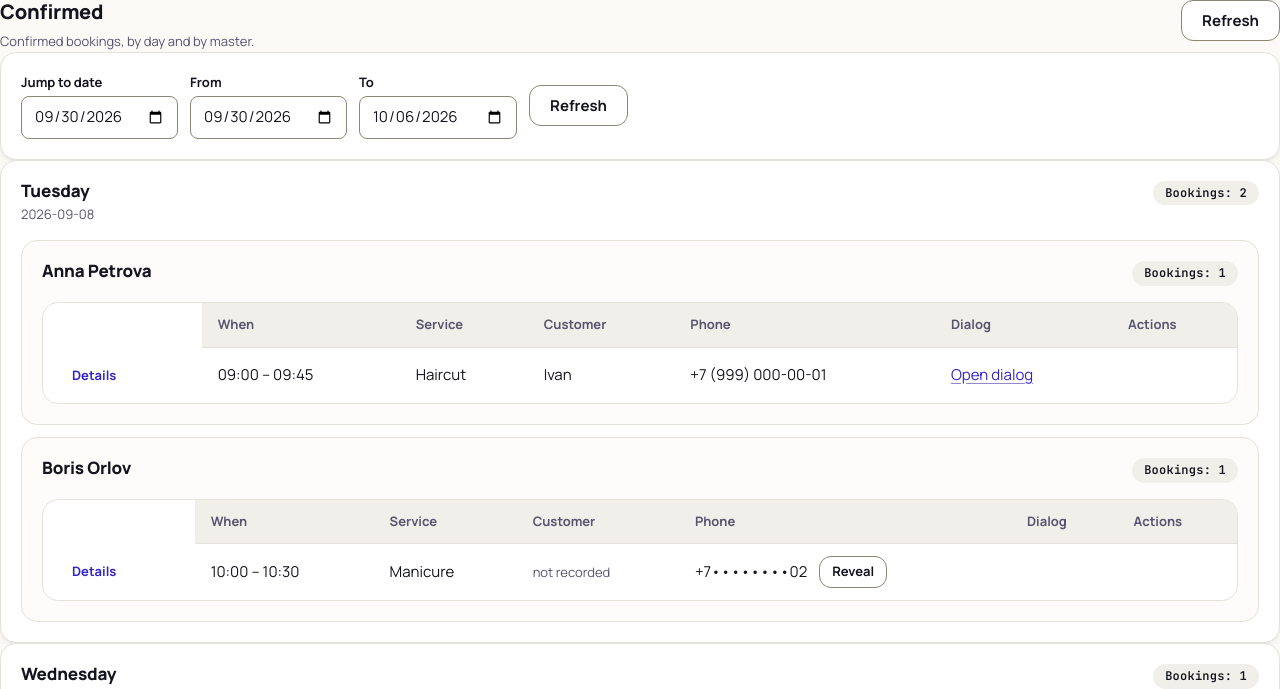
Scenario: confirmed-booking detail panel (26-272) › opens the first row's own detail, consolidating its facts and reusing the row's own dialog link, on Details
Click the button "Details" in the row of "Ivan": click(94, 375) x1=59 y1=359 x2=129 y2=391
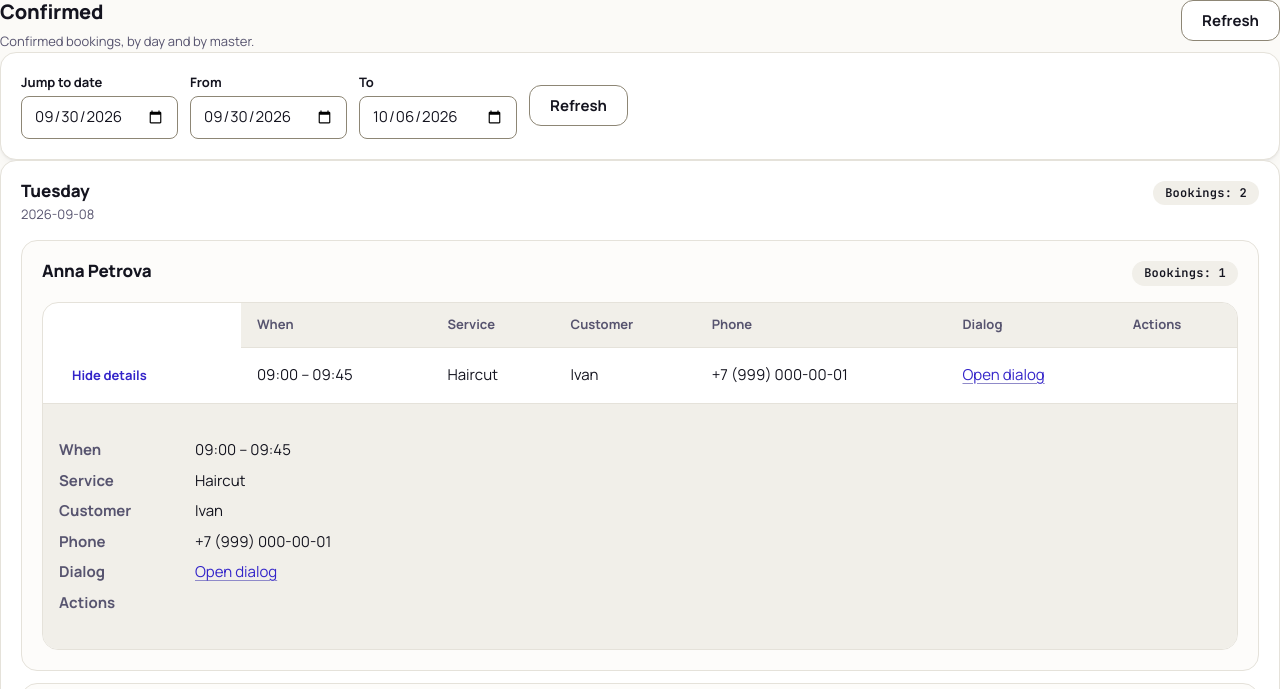
Expected: the number of elements with class "ago-table__detail" is 1, x1=59 y1=439 x2=331 y2=613
Expected: the element with class "ago-table__detail" shows "Haircut", x1=195 y1=470 x2=246 y2=491
Expected: the element with class "ago-table__detail" shows "Ivan", x1=195 y1=500 x2=223 y2=521
